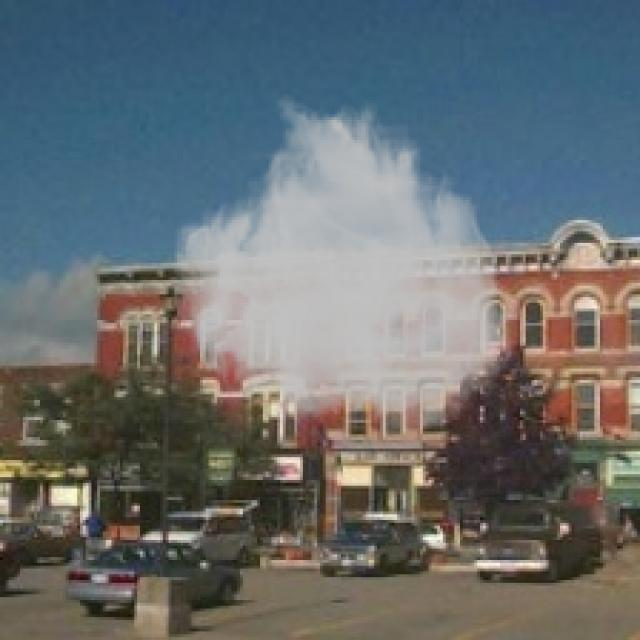Smoke: (168, 92, 514, 437)
